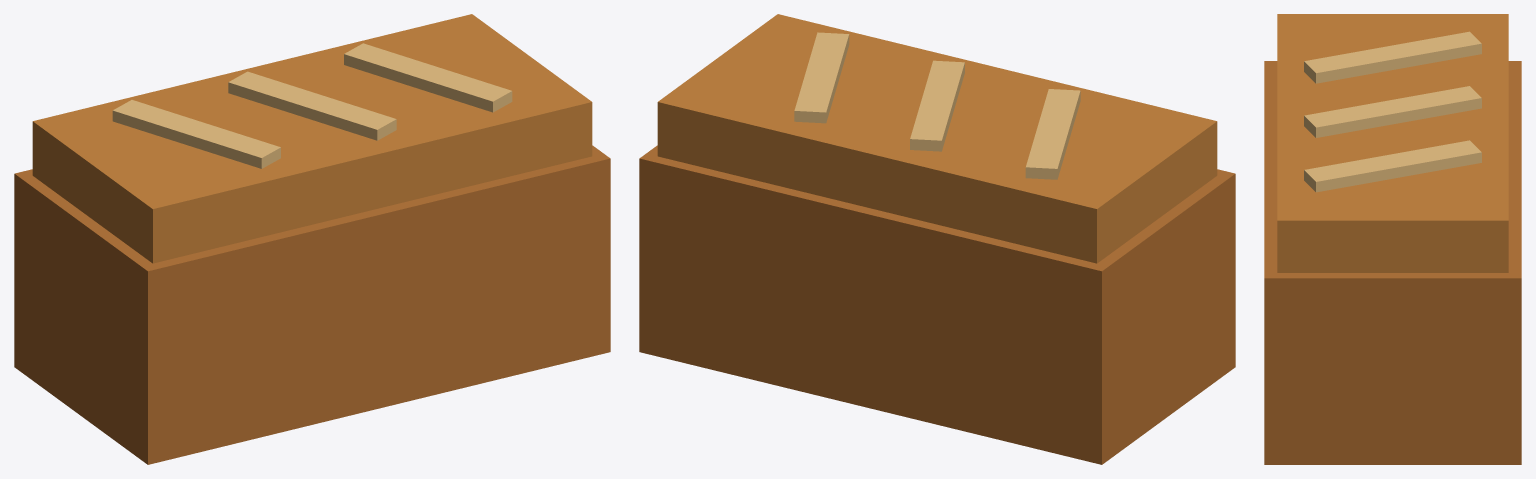
File: good-bread.glb
3 views of the same model, side by side, from view 1: azimuth 30°, elevation 25°; view 2: azimuth 150°, elevation 25°; view 3: azimuth 270°, elevation 25° (orthographic). The views are drawn at different scales.
Parts seen in each view (by area): view 1: #b87434, #c8843c_noshadow, #e8c080_noshadow; view 2: #b87434, #c8843c_noshadow, #e8c080_noshadow; view 3: #b87434, #c8843c_noshadow, #e8c080_noshadow.
Boxes of the visible parts, x1,y1,x2,y2 form: #b87434: (14,145,610,464); #c8843c_noshadow: (32,14,592,263); #e8c080_noshadow: (112,43,512,168); #b87434: (639,145,1235,464); #c8843c_noshadow: (657,14,1217,263); #e8c080_noshadow: (794,32,1080,179); #b87434: (1264,61,1521,464); #c8843c_noshadow: (1277,14,1508,272); #e8c080_noshadow: (1304,31,1481,192).
Bounding box in the file's own units: 0.2 × 0.107 × 0.1.
